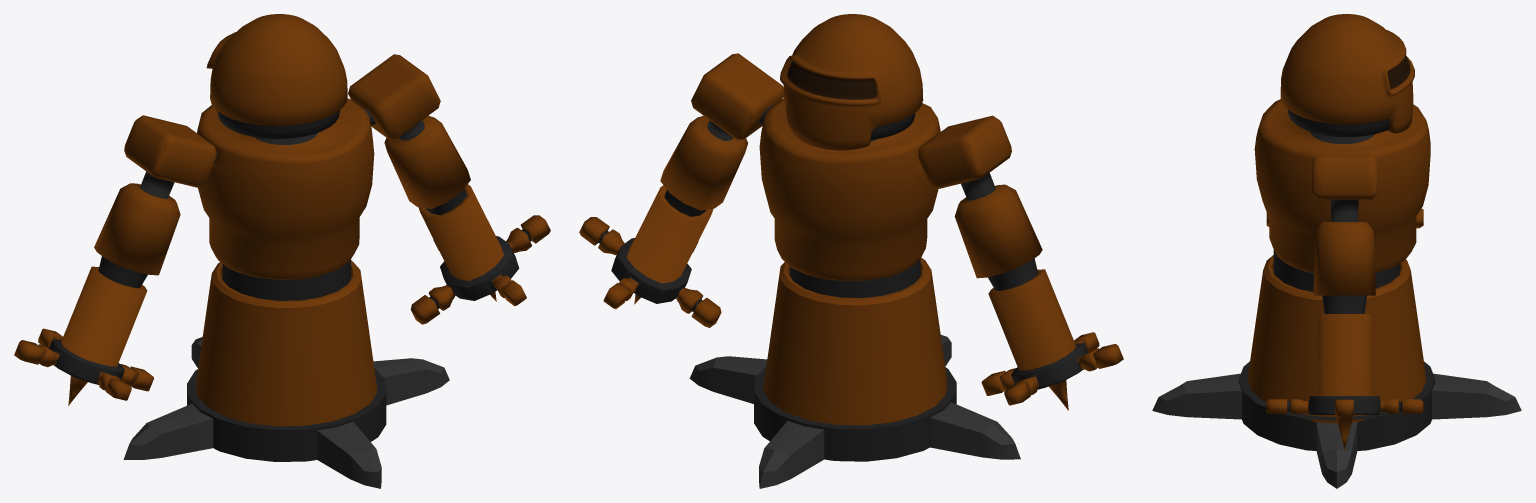
The model's file is StationaryLoPoly.fbx.
3 renders of one model, left to right at view 1: azimuth 30°, elevation 25°; view 2: azimuth 150°, elevation 25°; view 3: azimuth 270°, elevation 25°, orthographic. The views are drawn at different scales.
Parts seen in each view (by area): view 1: Enemy_Base002, Enemy_Body001, Enemy_ArmL001, Enemy_ArmR001, Enemy_Head001; view 2: Enemy_Base002, Enemy_Body001, Enemy_ArmL001, Enemy_ArmR001, Enemy_Head001; view 3: Enemy_Base002, Enemy_Body001, Enemy_ArmR001, Enemy_Head001.
Boxes of the visible parts, x1=… form: Enemy_Base002: x1=123, y1=259, x2=449, y2=488; Enemy_Body001: x1=197, y1=98, x2=375, y2=279; Enemy_ArmL001: x1=14, y1=115, x2=216, y2=405; Enemy_ArmR001: x1=348, y1=54, x2=550, y2=324; Enemy_Head001: x1=206, y1=14, x2=347, y2=138; Enemy_Base002: x1=689, y1=257, x2=1020, y2=488; Enemy_Body001: x1=758, y1=99, x2=940, y2=281; Enemy_ArmL001: x1=918, y1=115, x2=1123, y2=410; Enemy_ArmR001: x1=579, y1=53, x2=783, y2=327; Enemy_Head001: x1=780, y1=14, x2=923, y2=150; Enemy_Base002: x1=1152, y1=249, x2=1521, y2=488; Enemy_Body001: x1=1254, y1=99, x2=1430, y2=273; Enemy_ArmR001: x1=1266, y1=154, x2=1423, y2=450; Enemy_Head001: x1=1280, y1=14, x2=1414, y2=136.
Size of the model in its own units: 321 by 230 by 198.
